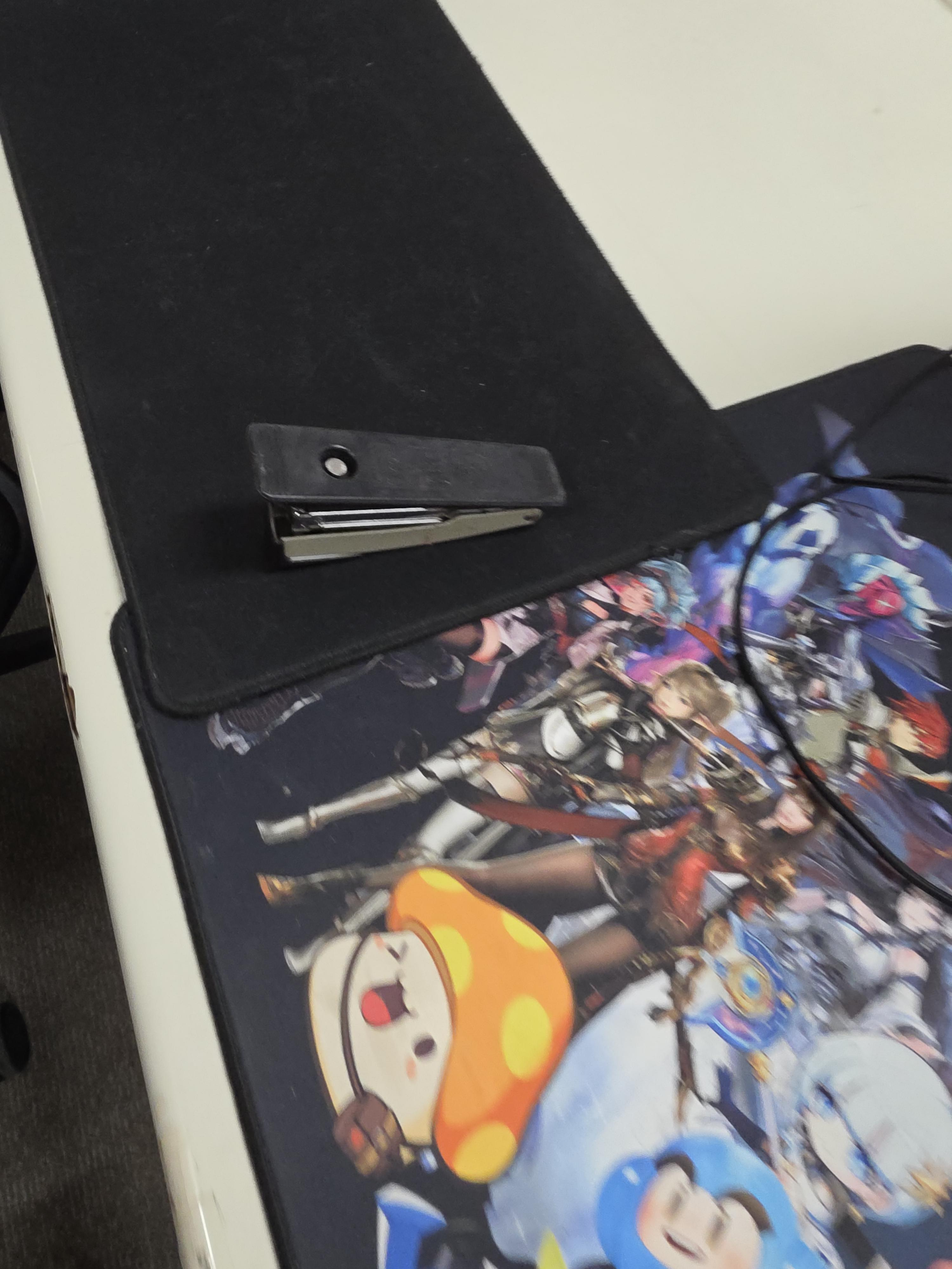stapler: (246, 423, 567, 565)
